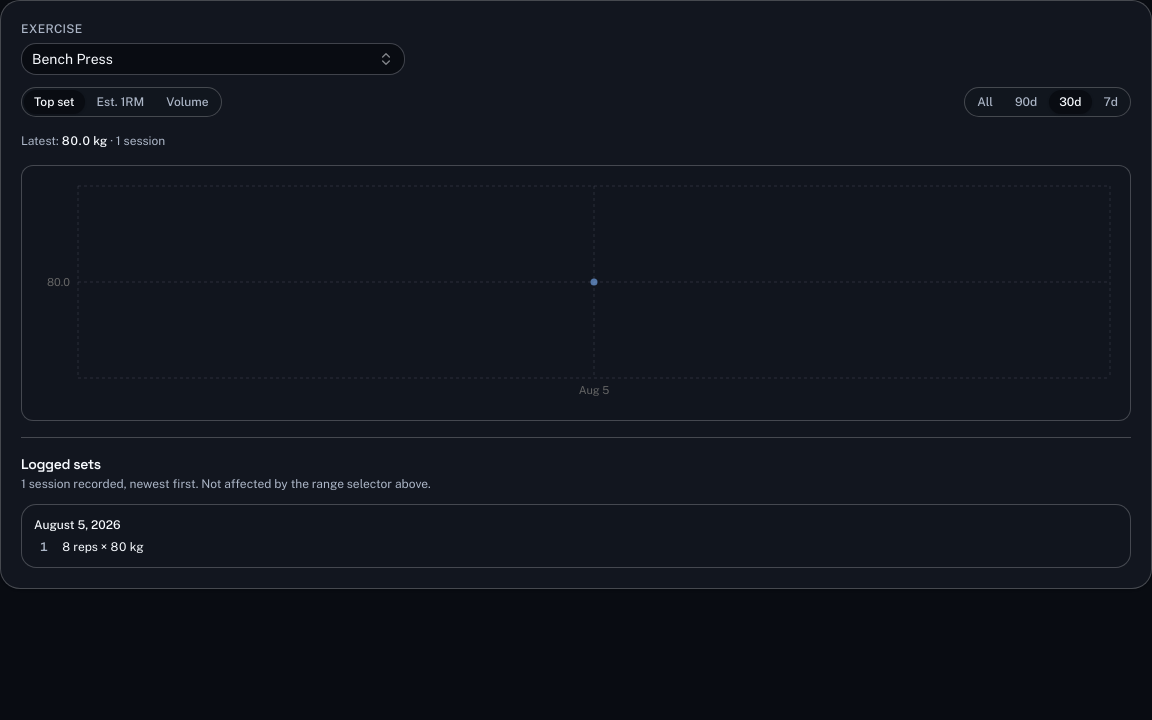
Test: ExerciseProgressClient — the metric › reads a different field per metric
The image size is (1152, 720).
Click the tab "Est. 1RM". click: point(120, 102)
box: 87,90 -> 154,114
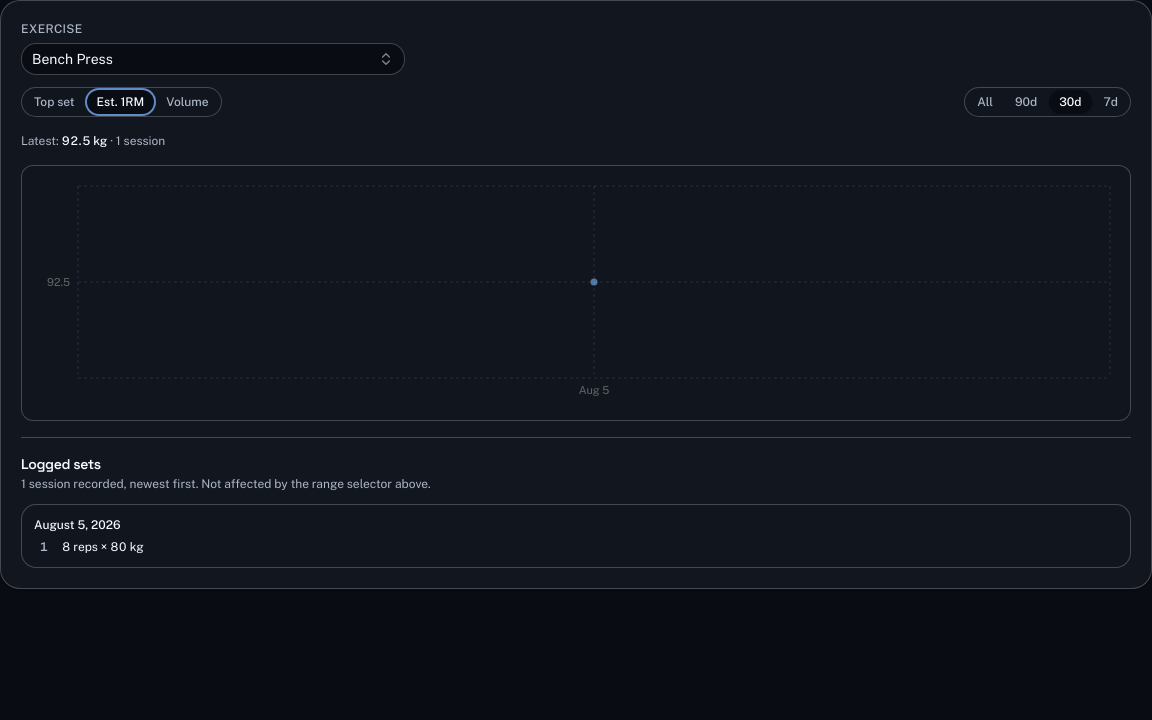
Expected: the text "92.5 kg" is shown, 62,134 -> 107,148
Click the tab "Volume". click: point(188, 102)
box: 156,90 -> 219,114
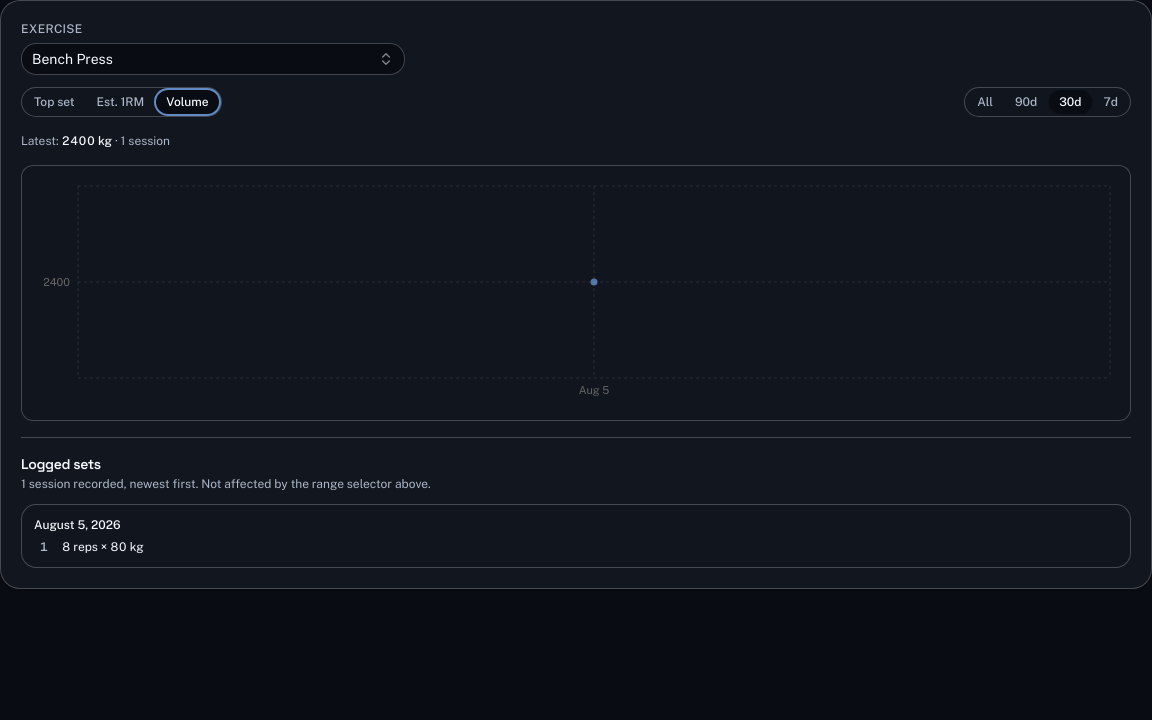
Expected: the text "2400 kg" is shown, 62,134 -> 112,148
